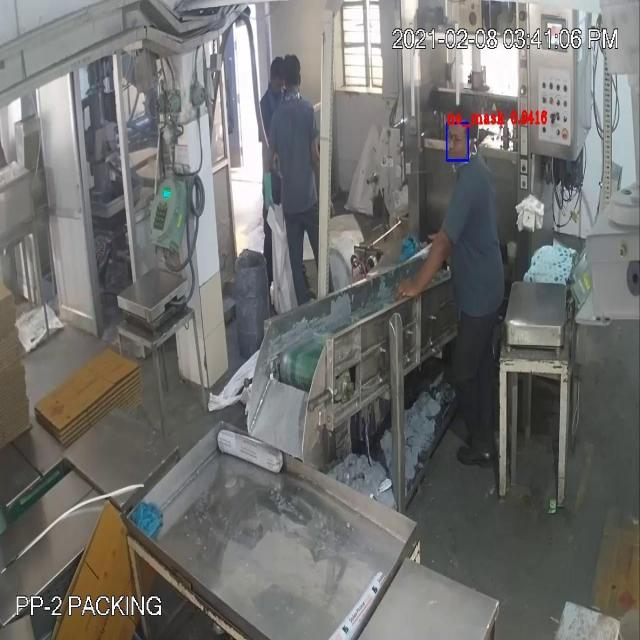No_Gloves: (27, 60, 425, 266)
